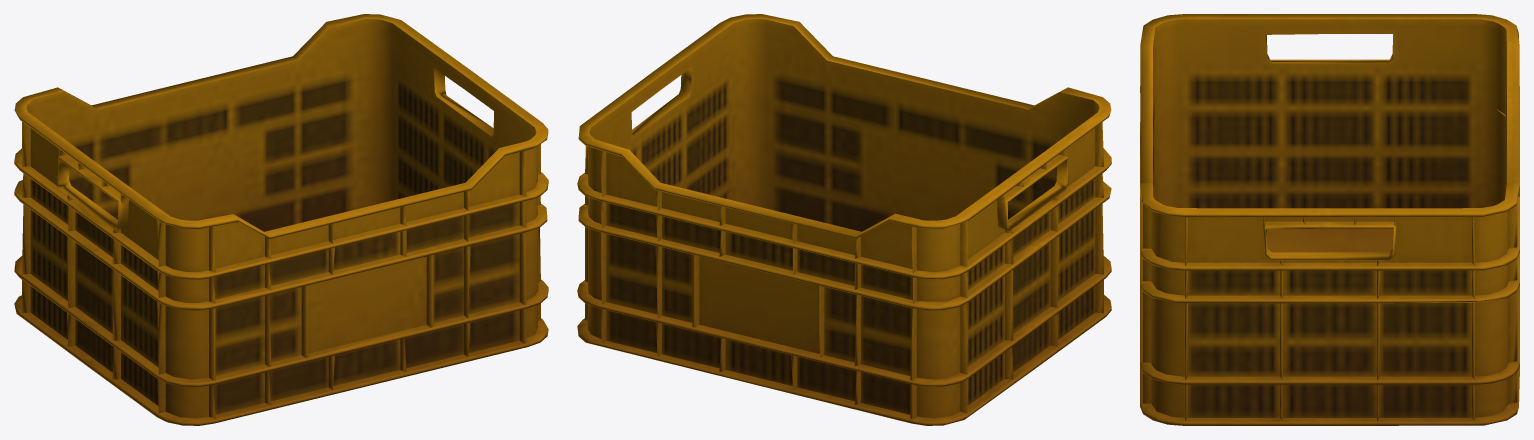
The model's file is plastic_crate_02.glb.
3 views of the same model, side by side, from view 1: azimuth 30°, elevation 25°; view 2: azimuth 150°, elevation 25°; view 3: azimuth 270°, elevation 25° (orthographic). The views are drawn at different scales.
Parts seen in each view (by area): view 1: plastic_crate_02; view 2: plastic_crate_02; view 3: plastic_crate_02.
Part boxes in pixels (<box>): plastic_crate_02: <box>14,14,548,425</box>; plastic_crate_02: <box>577,14,1111,425</box>; plastic_crate_02: <box>1140,14,1519,425</box>.
Bounding box in the file's own units: 0.5055 × 0.2541 × 0.4055.
Materials: 1 (1 with a texture image).
